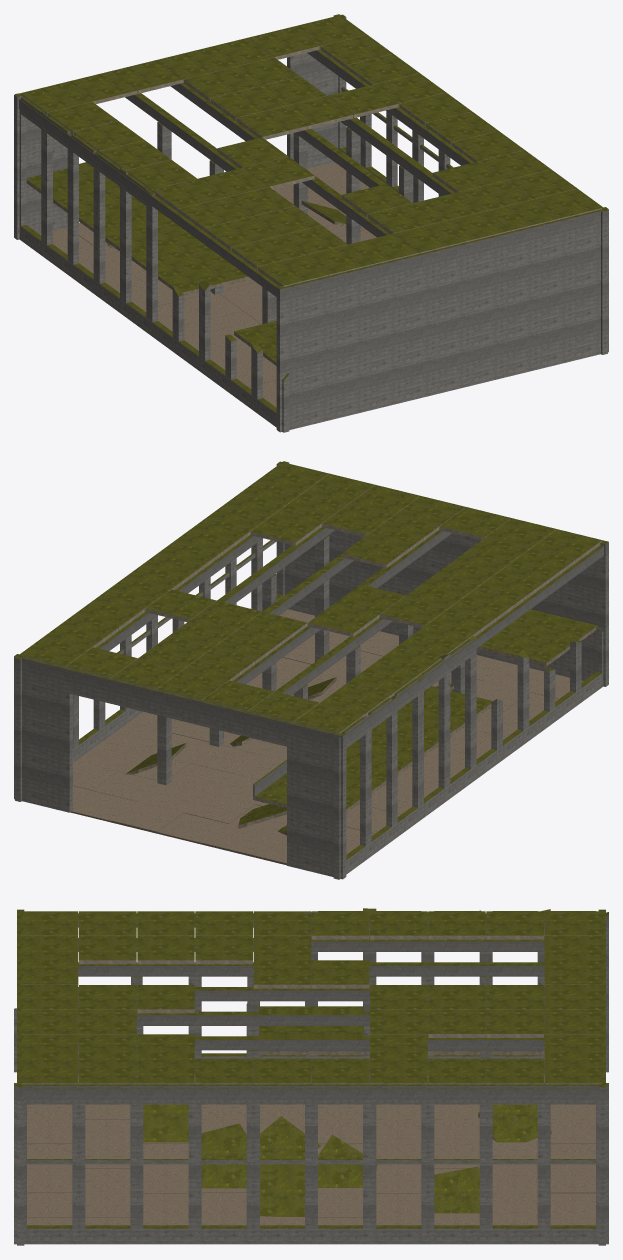
Rendered from hall.gltf.
3 views of the same model, one above another, from view 1: azimuth 30°, elevation 25°; view 2: azimuth 150°, elevation 25°; view 3: azimuth 270°, elevation 25° (orthographic). The views are drawn at different scales.
Visible parts, largest first — view 1: hall; view 2: hall; view 3: hall.
Part boxes in pixels (x1=…): hall: x1=14, y1=14, x2=608, y2=432; hall: x1=14, y1=461, x2=608, y2=879; hall: x1=14, y1=908, x2=608, y2=1245.
Size of the model in its own units: 28.9 by 13.31 by 40.9.
